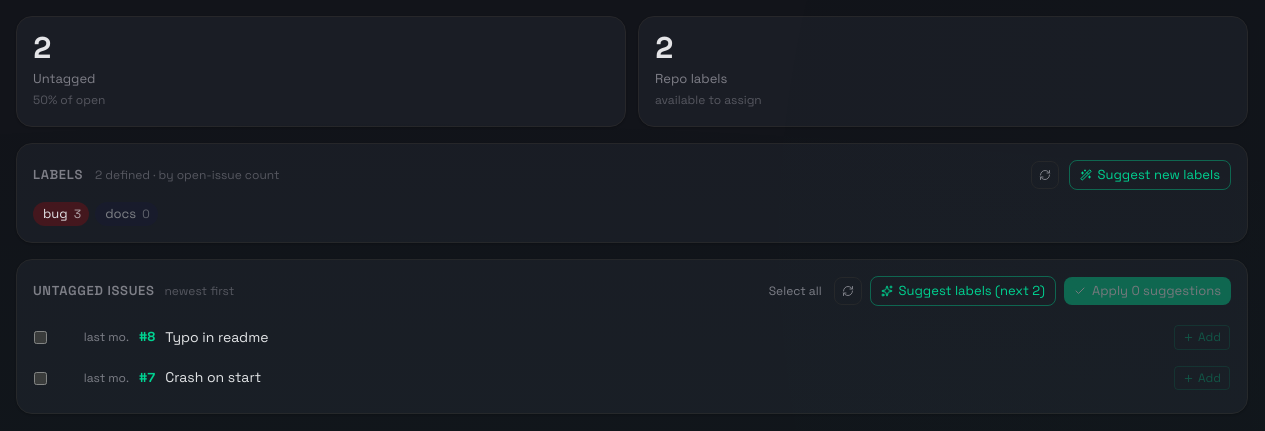
it: TaggingView › drops selection for issues a reload removed
Check: the text "Typo in readme" is shown, box [165, 328, 268, 346]
Click the checkbox named "Select issue #8": [40, 338] box [34, 331, 47, 344]
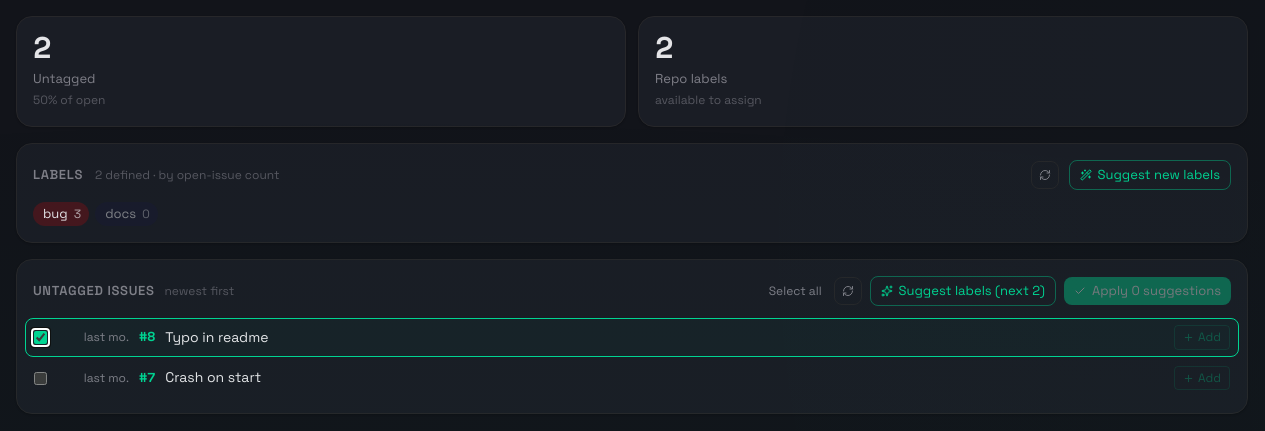
Check: the checkbox named "Select issue #8" is checked, box [34, 331, 47, 344]
Click the button named "Reload the untagged queue": [848, 291] box [834, 277, 862, 305]
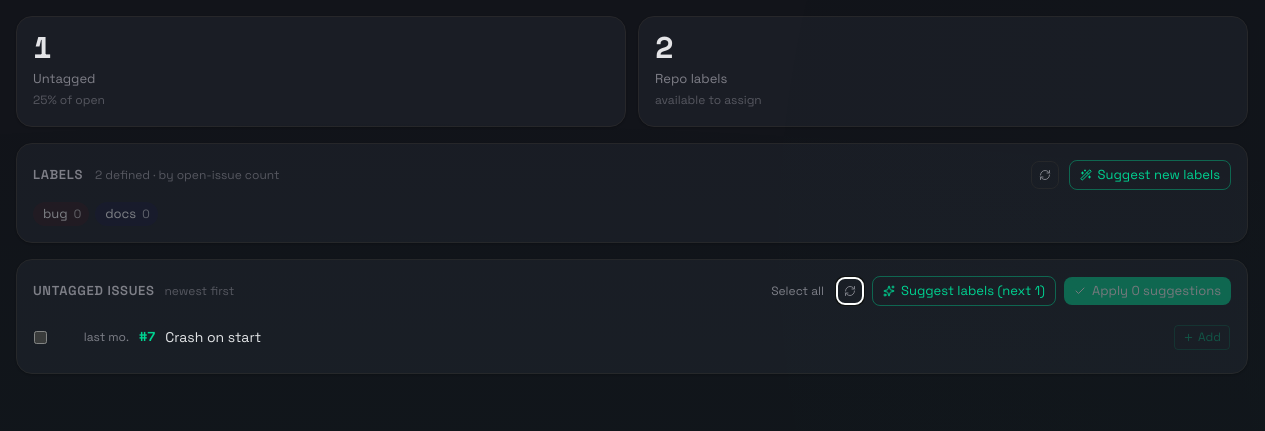
Check: the button "Select all" is shown, box [767, 282, 828, 300]
Check: the text "Typo in readme" is gone
